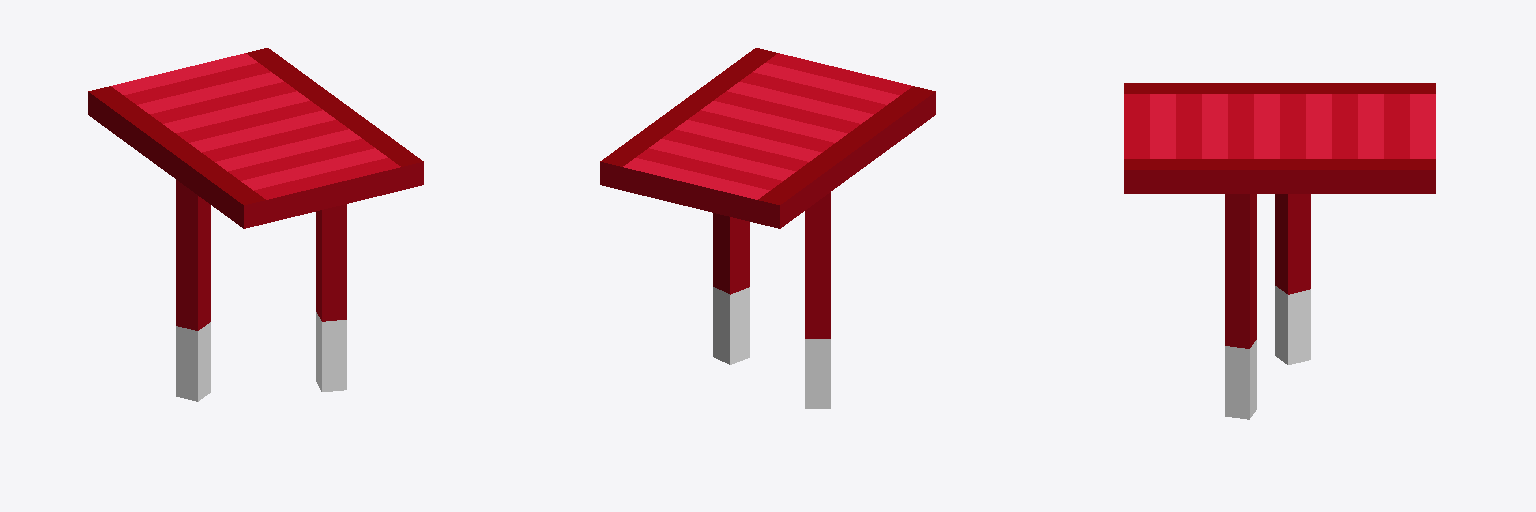
The picture shows the model from 3 angles: view 1: azimuth 30°, elevation 25°; view 2: azimuth 150°, elevation 25°; view 3: azimuth 270°, elevation 25°; orthographic projection.
Visible parts, largest first — view 1: cube; view 2: cube; view 3: cube.
Part boxes in pixels (left/top/right/bottom): cube: left=88, top=48, right=423, bottom=401; cube: left=600, top=48, right=935, bottom=408; cube: left=1124, top=83, right=1435, bottom=419.
Bounding box in the file's own units: 0.25 × 0.3438 × 0.375.
1 materials, 1 textured.